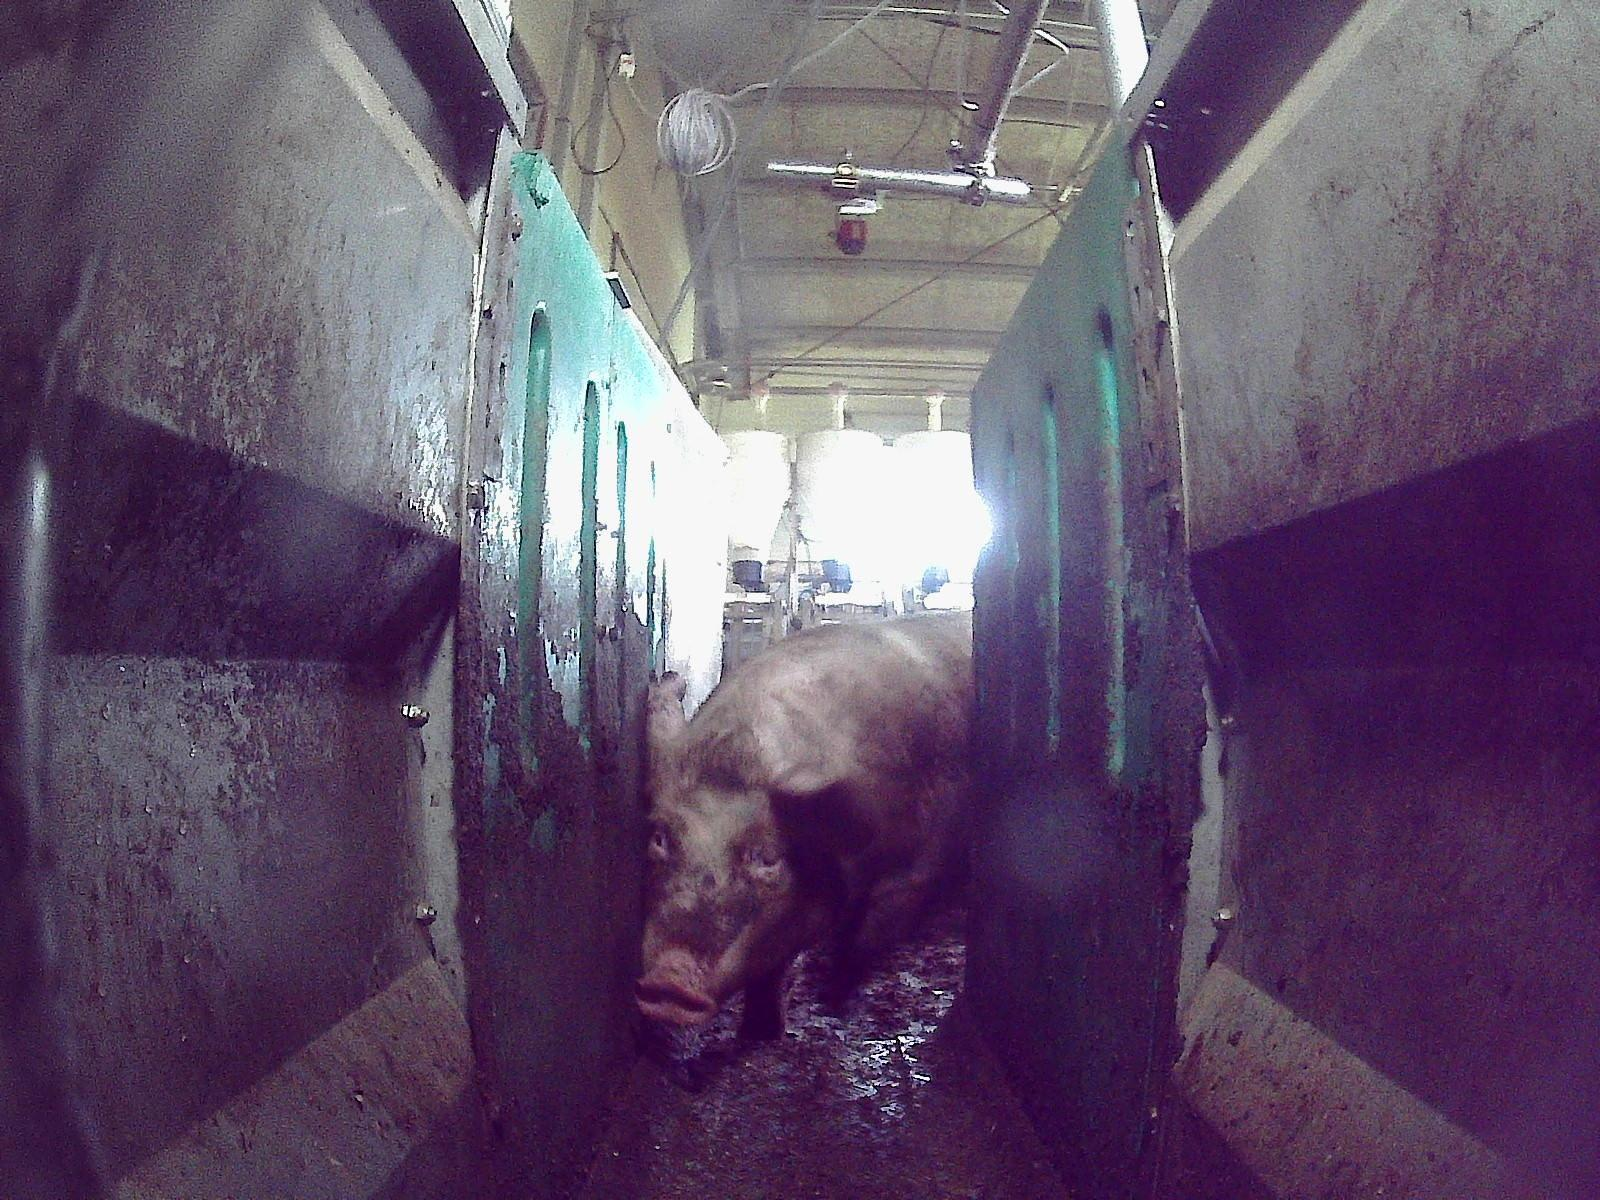Face: (634, 761, 826, 1023)
